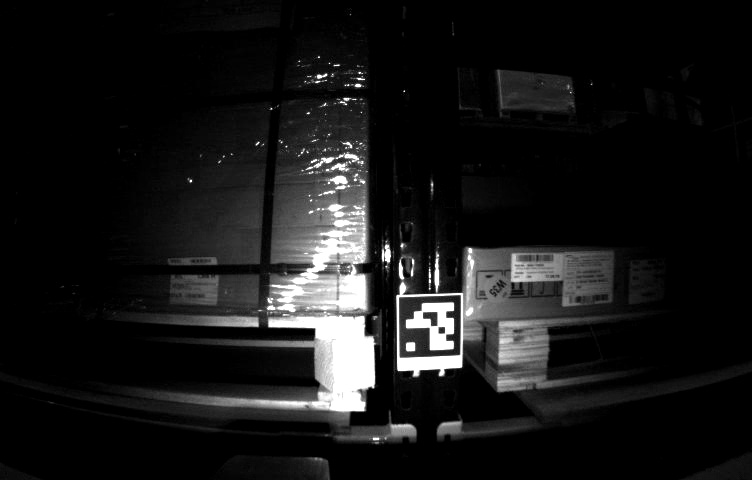True Barcode: (168, 259, 216, 304), (628, 259, 670, 300)
